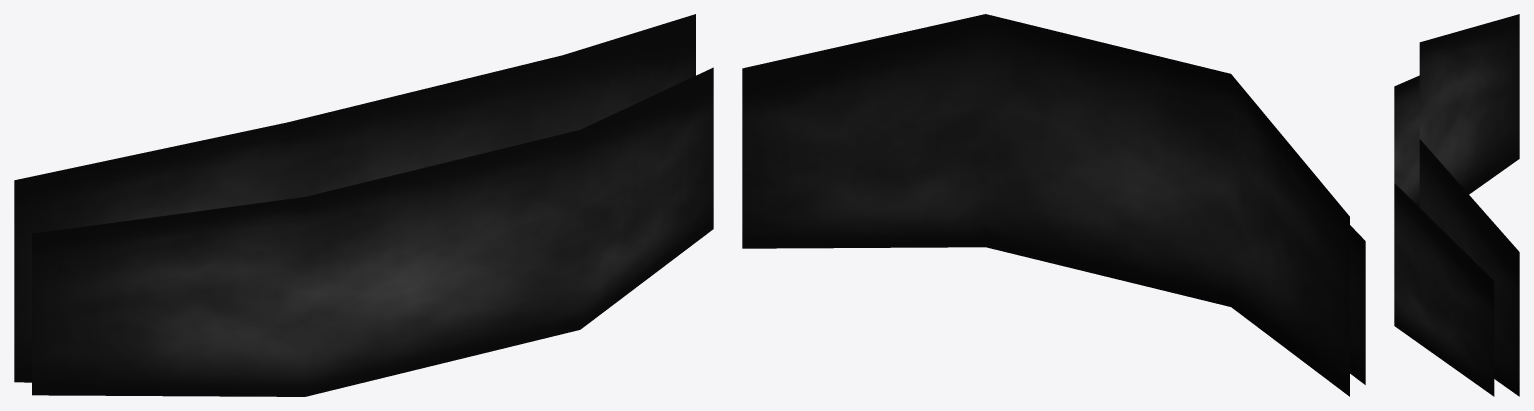
3 views of the same model, side by side, from view 1: azimuth 30°, elevation 25°; view 2: azimuth 150°, elevation 25°; view 3: azimuth 270°, elevation 25° (orthographic). The views are drawn at different scales.
Visible parts, largest first — view 1: tx_01; view 2: tx_01; view 3: tx_01.
Part boxes in pixels (<box>): tx_01: <box>14,14,713,396</box>; tx_01: <box>742,14,1365,396</box>; tx_01: <box>1394,14,1519,396</box>.
Bounding box in the file's own units: 4036 × 1480 × 899.
